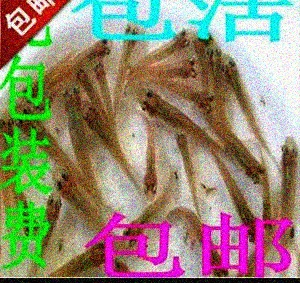fry: (169, 206, 232, 278), (269, 129, 299, 238), (81, 100, 129, 163), (133, 86, 193, 135), (219, 181, 262, 249), (219, 49, 259, 121), (55, 82, 87, 167), (0, 108, 25, 213), (53, 170, 100, 225), (34, 188, 66, 252), (63, 237, 115, 275), (116, 202, 155, 248), (179, 81, 219, 125), (13, 68, 59, 106), (192, 29, 222, 87), (13, 101, 48, 150), (13, 186, 40, 247), (134, 132, 158, 200), (226, 144, 268, 182), (148, 57, 204, 85), (93, 57, 119, 117), (139, 28, 189, 59), (174, 131, 199, 191), (256, 177, 277, 243), (65, 37, 113, 64), (115, 20, 141, 67), (74, 66, 98, 107)
